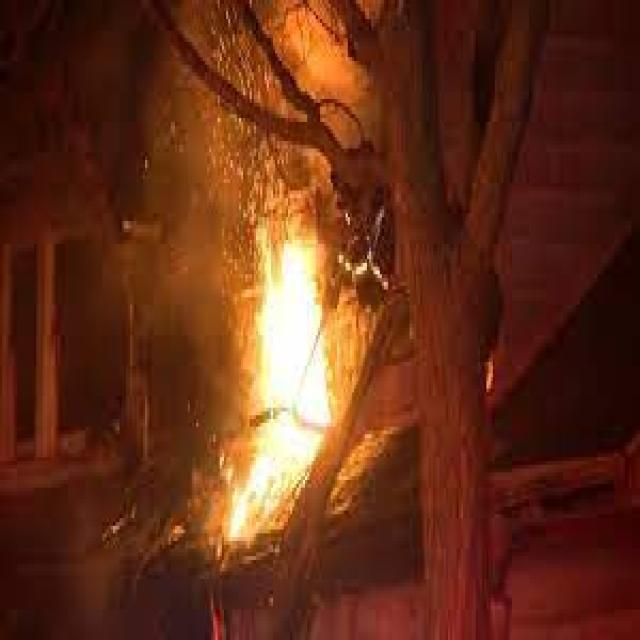Fire: (250, 215, 324, 500)
